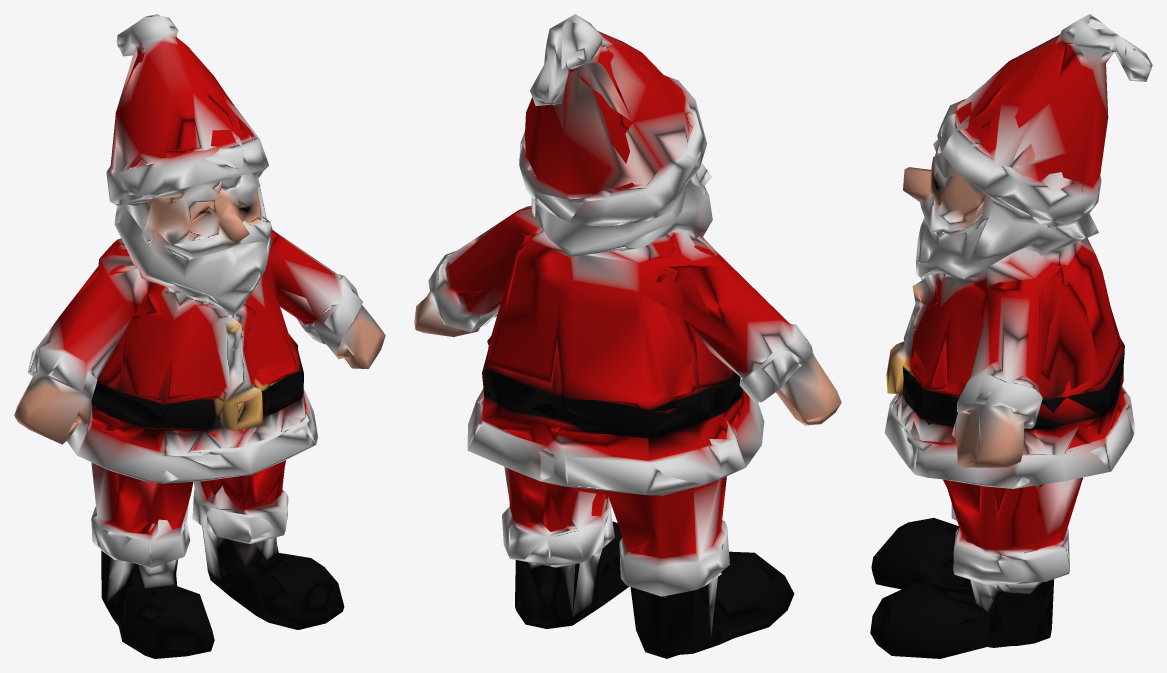
File: gen3d-santa-lod0.glb
3 renders of one model, left to right at view 1: azimuth 30°, elevation 25°; view 2: azimuth 150°, elevation 25°; view 3: azimuth 270°, elevation 25°, orthographic. The views are drawn at different scales.
Visible parts, largest first — view 1: part_0; view 2: part_0; view 3: part_0.
Boxes of the visible parts, x1,y1,x2,y2 form: part_0: (14, 14, 385, 658); part_0: (414, 14, 841, 658); part_0: (870, 14, 1152, 658).
Bounding box in the file's own units: 0.6789 × 0.9988 × 0.4334.
